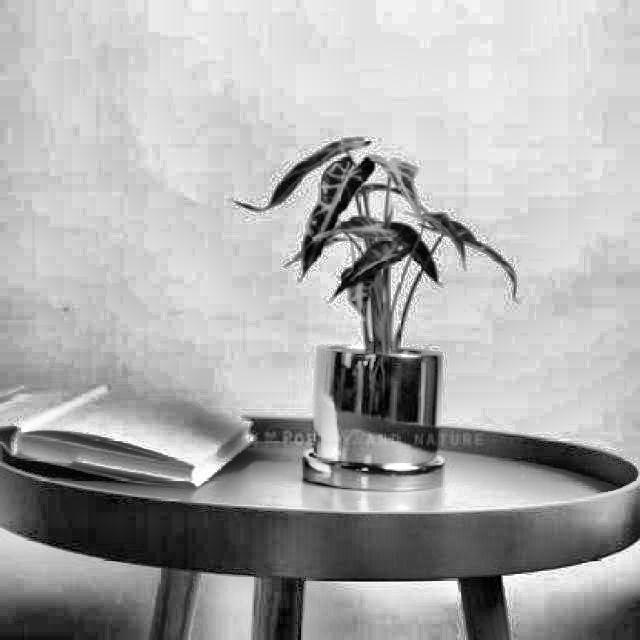plants: (288, 136, 474, 489)
